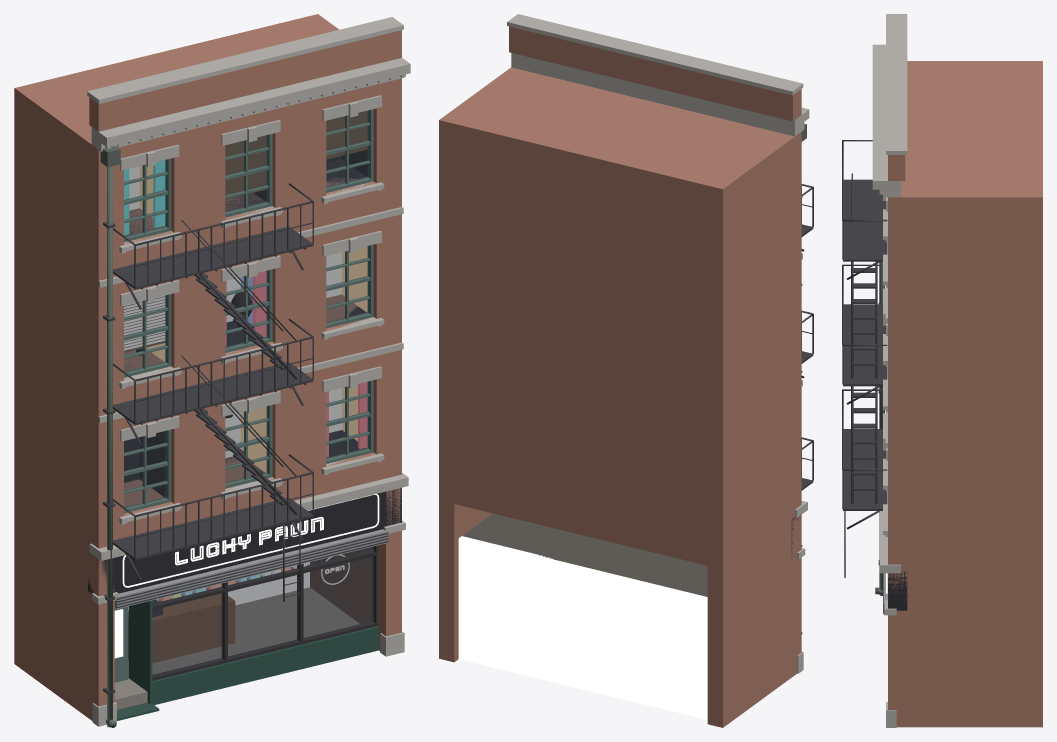
The model's file is bldg_1.glb.
The picture shows the model from 3 angles, left to right: view 1: azimuth 30°, elevation 25°; view 2: azimuth 150°, elevation 25°; view 3: azimuth 270°, elevation 25°; orthographic projection. The views are drawn at different scales.
Visible parts, largest first — view 1: bldg_1; view 2: bldg_1; view 3: bldg_1.
Part boxes in pixels (x1,y1,x2,y2): bldg_1: (14,14,410,727); bldg_1: (439,14,813,727); bldg_1: (842,14,1042,727).
Bounding box in the file's own units: 7.6 × 14.8 × 4.67.
